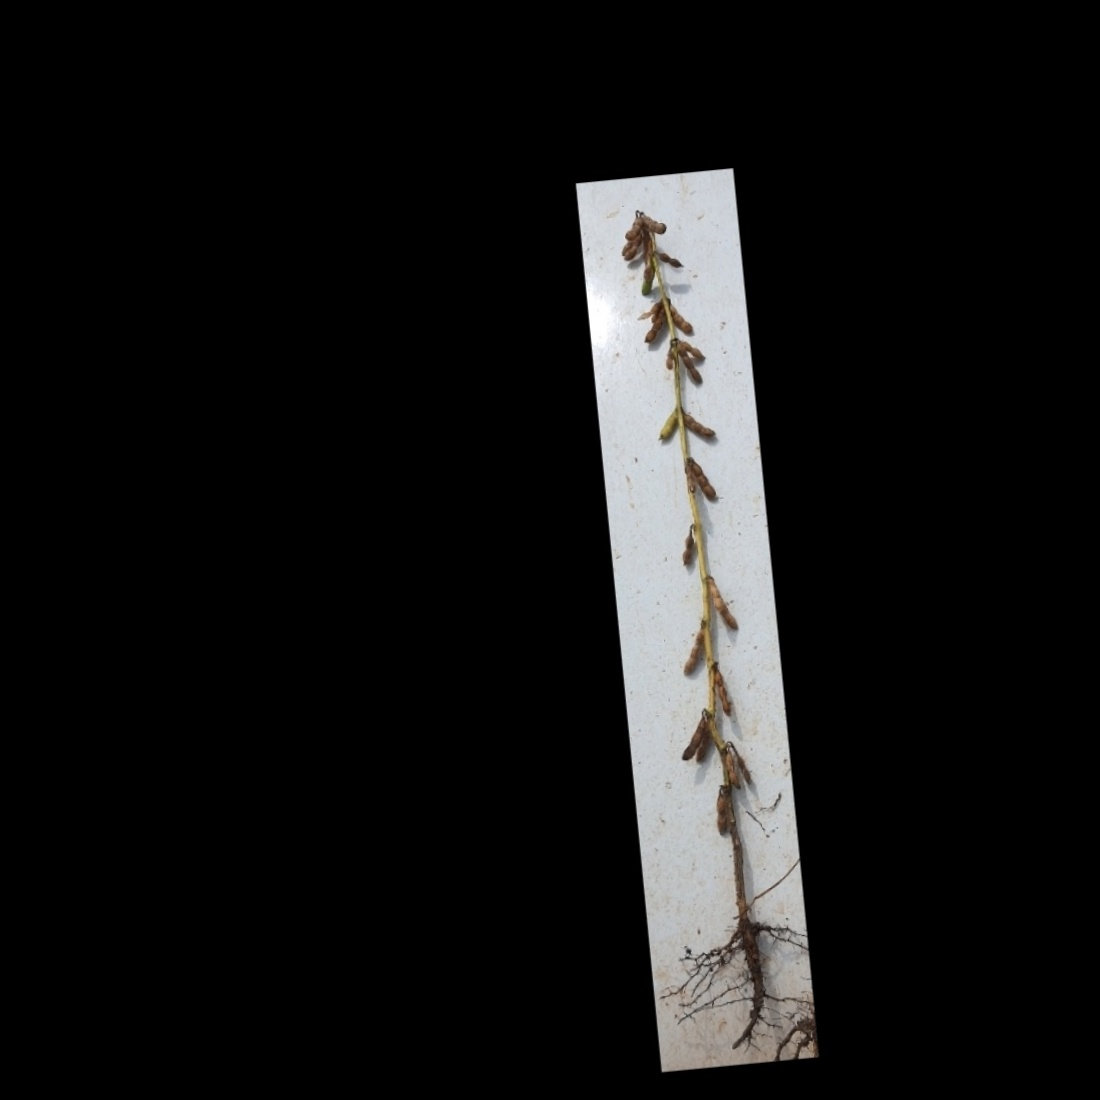pod: (704, 572, 739, 635), (677, 399, 718, 443), (677, 626, 707, 680), (686, 455, 718, 502), (662, 298, 696, 337), (653, 403, 683, 447), (711, 667, 733, 719), (676, 522, 699, 570), (710, 789, 731, 837), (651, 244, 685, 271), (732, 750, 755, 788), (722, 750, 741, 790), (662, 343, 676, 372)
soy: (606, 195, 798, 1051)
